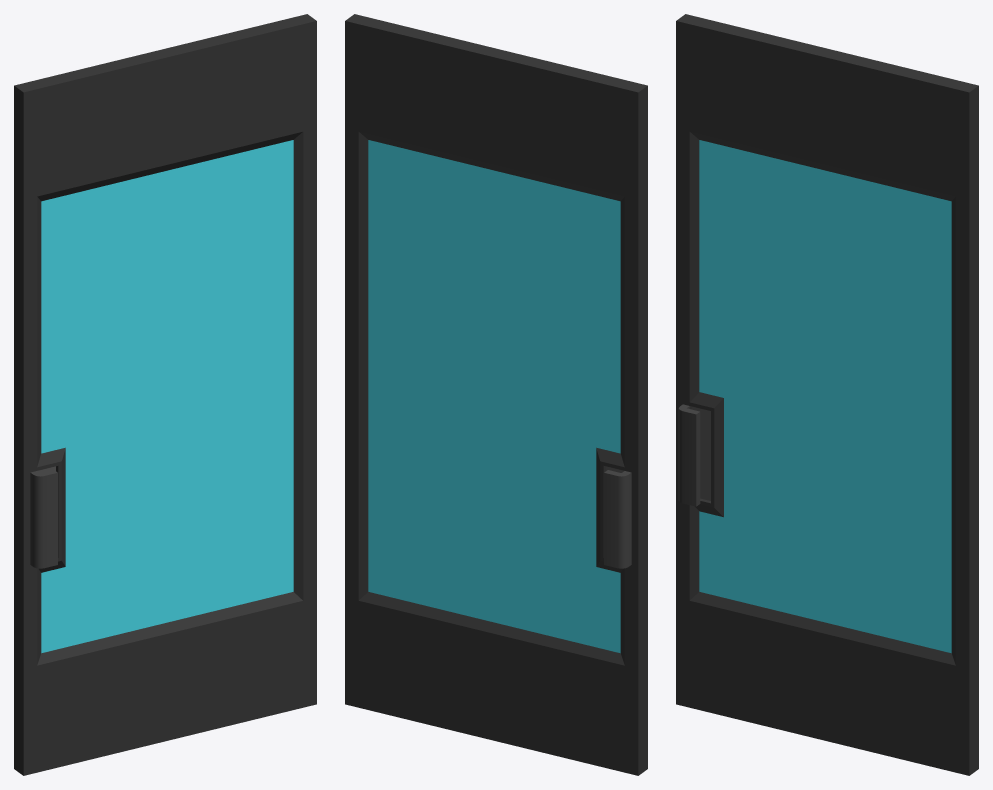
The model's file is SM_Buildings_Commercial_15_Door_R.fbx.
3 renders of one model, left to right at view 1: azimuth 30°, elevation 25°; view 2: azimuth 150°, elevation 25°; view 3: azimuth 330°, elevation 25°, orthographic.
Visible parts, largest first — view 1: SM_Buildings_Commercial_15_Door_R; view 2: SM_Buildings_Commercial_15_Door_R; view 3: SM_Buildings_Commercial_15_Door_R.
Part boxes in pixels (<box>): SM_Buildings_Commercial_15_Door_R: <box>14,14,316,775</box>; SM_Buildings_Commercial_15_Door_R: <box>345,14,647,775</box>; SM_Buildings_Commercial_15_Door_R: <box>676,14,978,775</box>.
Bounding box in the file's own units: 1.08 × 2.39 × 0.15.
